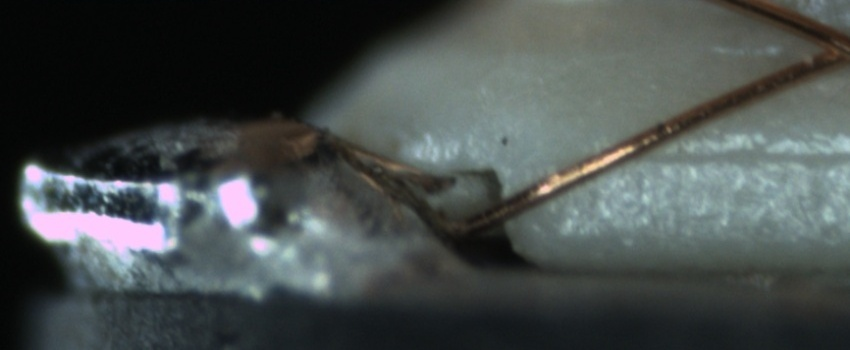CL: (797, 18, 850, 77)
DL: (614, 122, 847, 189)
